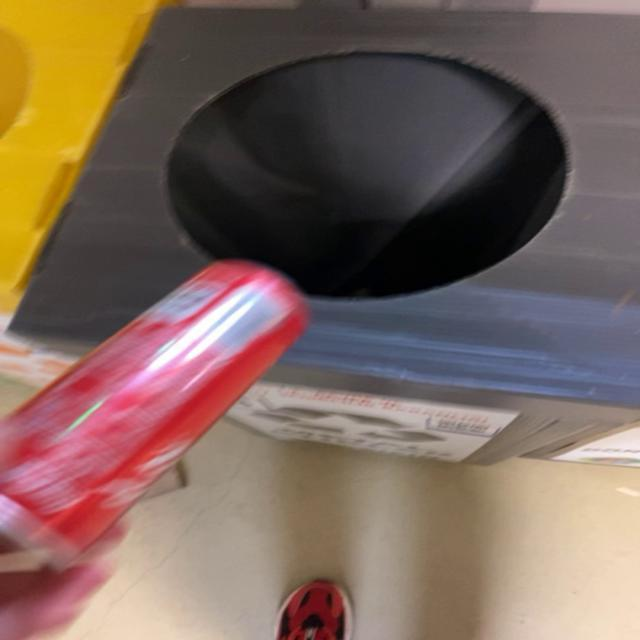Bin: (10, 8, 638, 406)
Metal: (1, 260, 308, 571)
